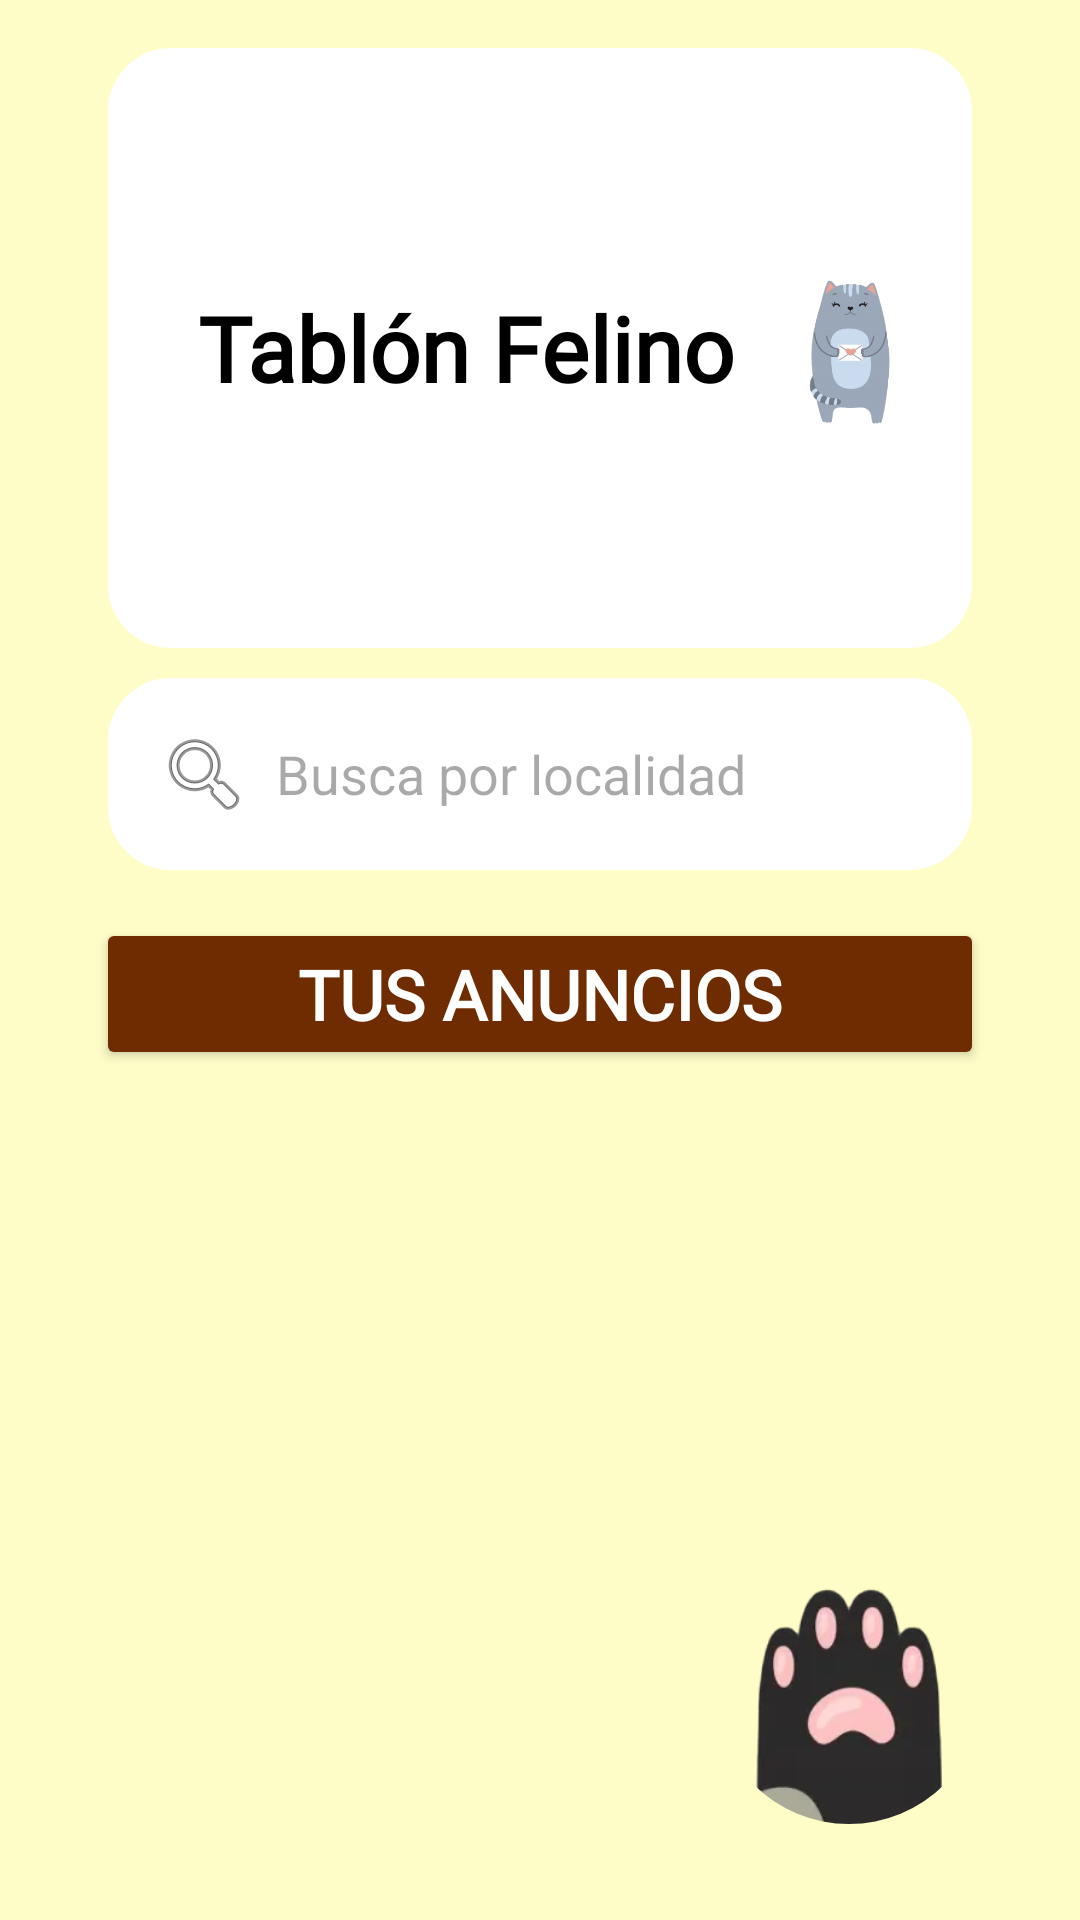

Icons on this 1080px x 1920px Android screen, each with its box as (x1, y1, x2, y2):
iconopata: (756, 1589, 942, 1824)
